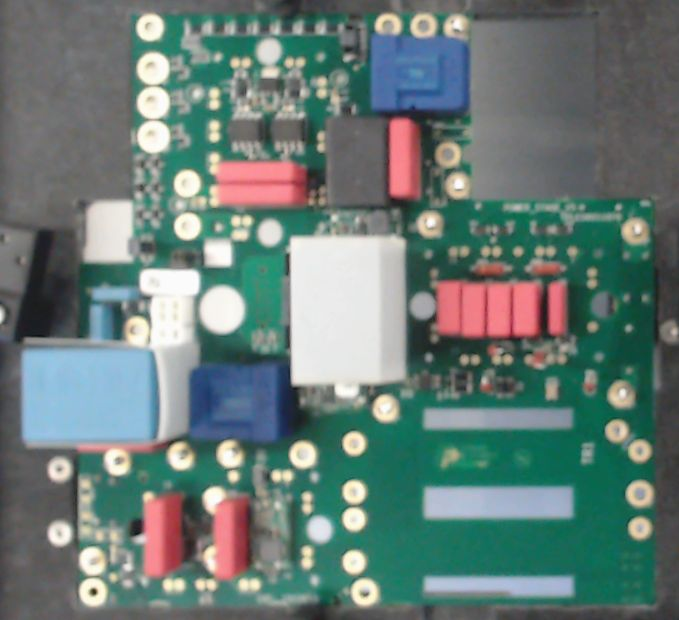comp1: (369, 33, 473, 117), (189, 364, 292, 440)
comp2: (143, 496, 183, 575), (388, 116, 422, 203), (214, 498, 247, 577), (214, 185, 311, 209), (213, 160, 308, 184), (512, 281, 541, 338), (460, 281, 486, 342), (436, 281, 462, 340), (486, 282, 512, 338), (545, 280, 570, 338)
comp3: (324, 115, 389, 208)
comp4: (18, 335, 200, 451), (289, 233, 408, 385)
